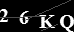2: (1, 8, 9, 23)
6: (18, 10, 29, 25)
K: (37, 14, 56, 29)
Q: (58, 14, 74, 32)
